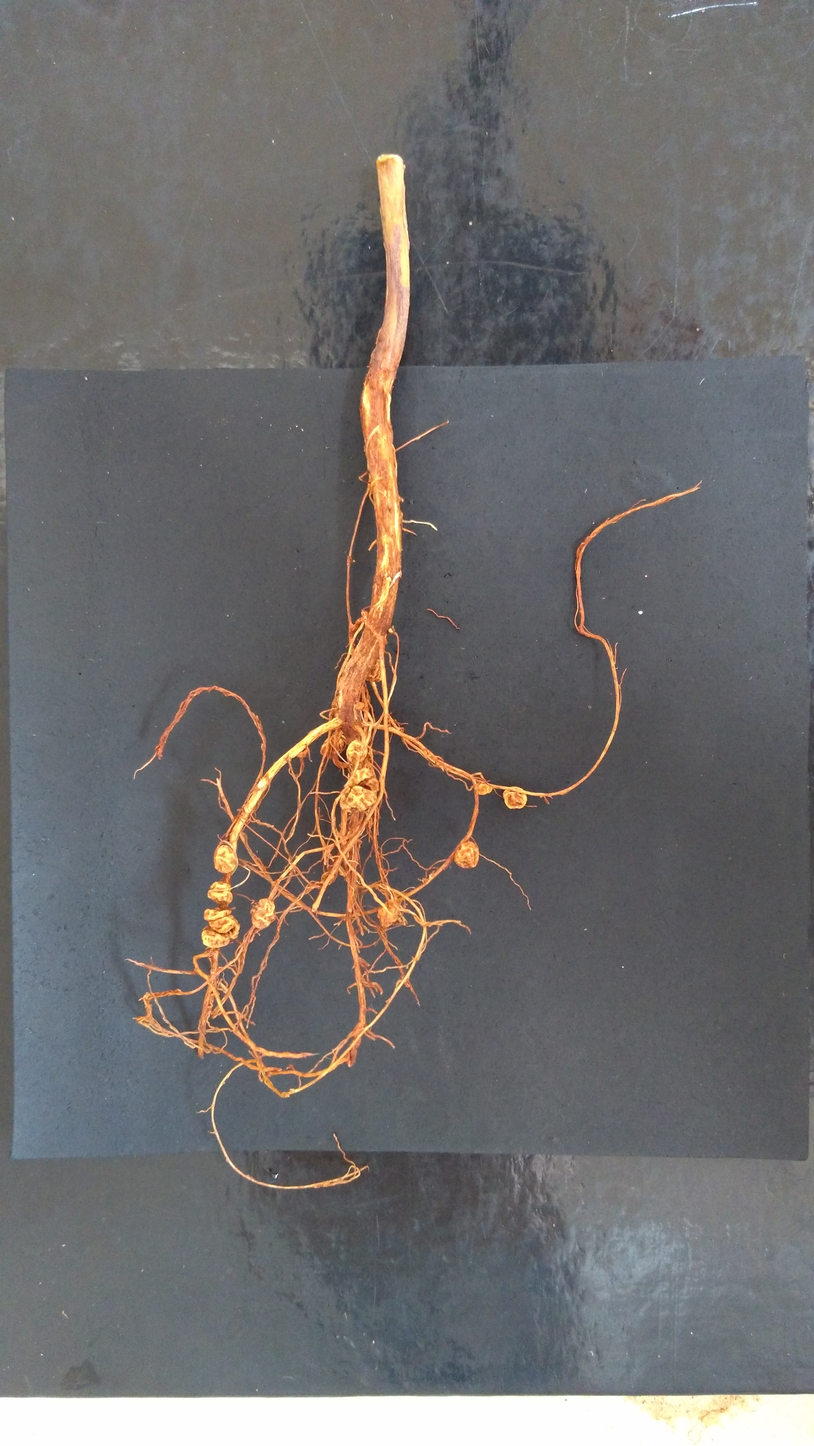nodule: (204, 907, 240, 939), (339, 785, 378, 814), (347, 767, 380, 792), (377, 899, 403, 930), (250, 898, 275, 930), (454, 840, 480, 869), (213, 844, 238, 874), (201, 923, 231, 948), (319, 733, 345, 759), (345, 738, 368, 765), (502, 785, 527, 809), (207, 881, 233, 904), (365, 658, 383, 682), (348, 817, 365, 835), (473, 781, 493, 796), (321, 871, 334, 885), (336, 849, 350, 861), (355, 617, 366, 628), (387, 624, 396, 635), (355, 701, 364, 710), (360, 609, 368, 618), (340, 838, 346, 845)
